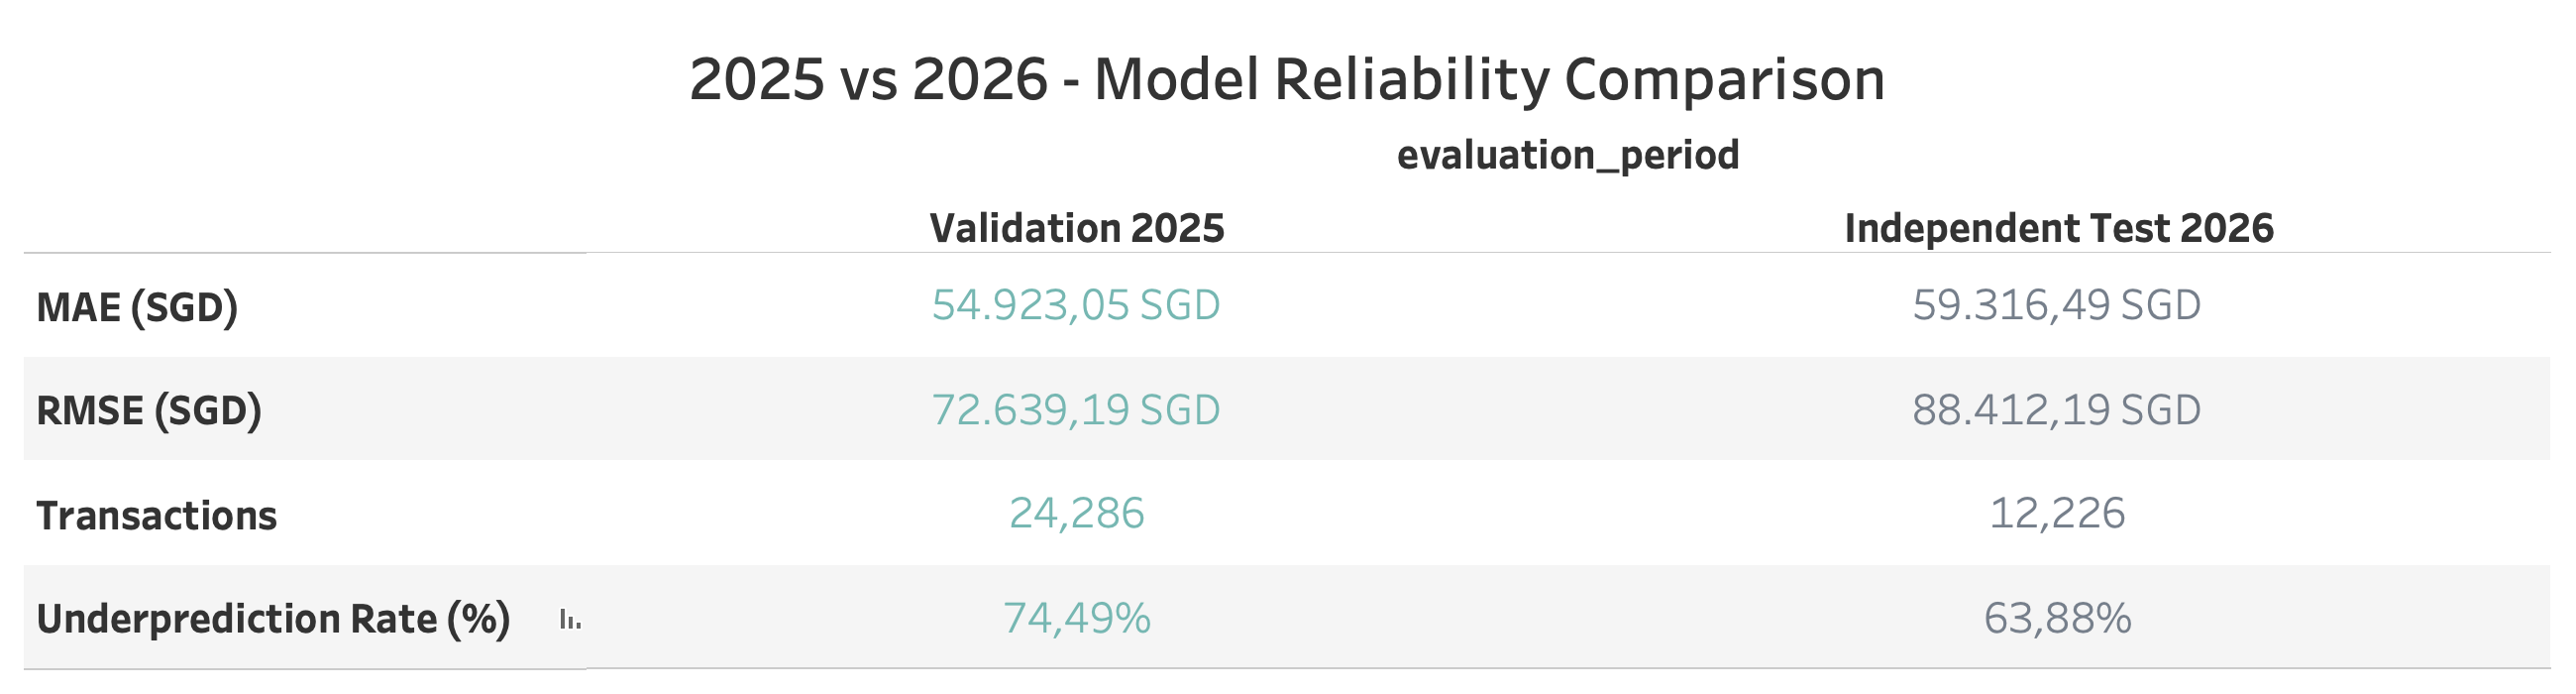

What the dashboard file says about the page in this screenshot:
{"tool":"tableau","page":{"name":"2025 vs 2026 - Reliability Summary","canvas":[1300,350],"ordinal":0},"visuals":[{"type":"worksheet","title":"2025 vs 2026 - Model Reliability Comparison","mark":"Automatic","cols":["evaluation_period"],"box":[8,8,1284,334]}]}

Visuals, with their boxes in screenshot pixels (x1, y1, x2, y2), scaled from the page's 1300x350 canvas onto the 2576x694 screenshot:
"2025 vs 2026 - Model Reliability Comparison" worksheet: (16, 16, 2560, 678)
